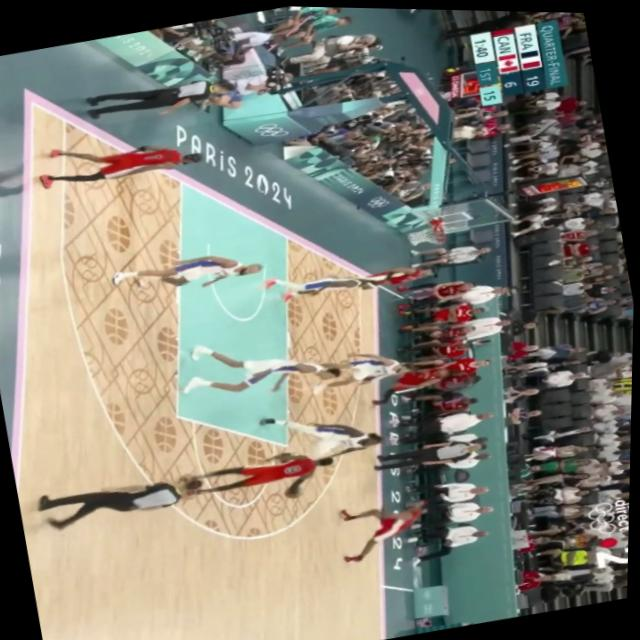ball_handler: (189, 441, 341, 517)
